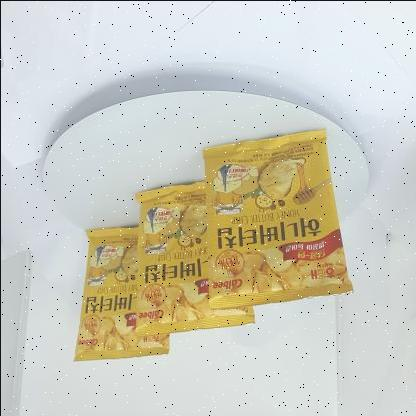Others: (62, 120, 362, 368)
